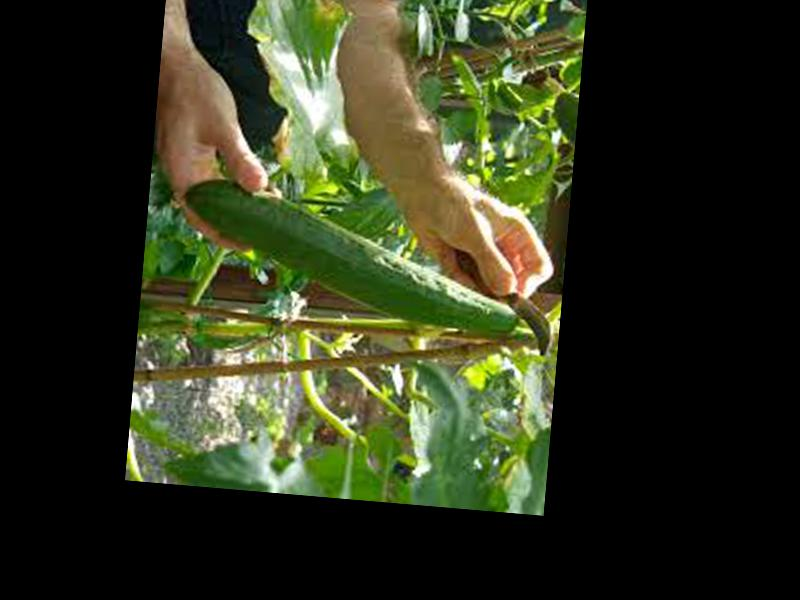Cucumber: (176, 178, 525, 337)
